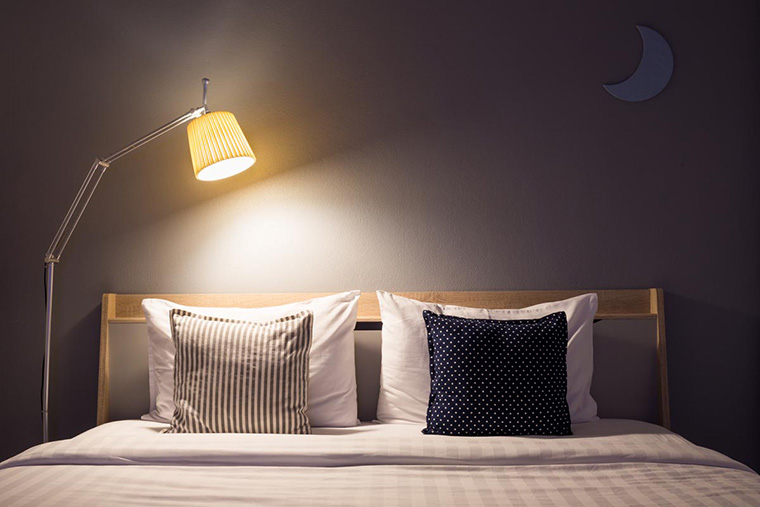lampu: (19, 39, 279, 290)
